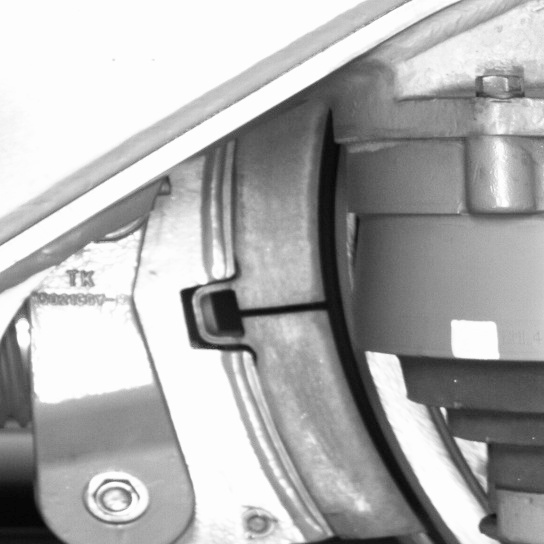KnifeSwitch: (245, 138, 466, 543)
